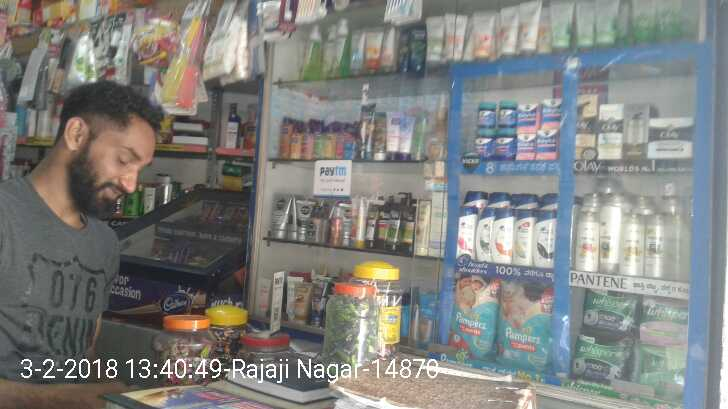beauty: (649, 117, 693, 159), (598, 202, 620, 276), (594, 103, 621, 163), (619, 101, 646, 161), (574, 212, 598, 271), (488, 206, 511, 266), (534, 206, 555, 271), (622, 212, 642, 278), (512, 206, 533, 266), (643, 214, 663, 277), (457, 207, 476, 258), (475, 203, 492, 260)
pharmacy: (499, 279, 550, 369), (453, 267, 497, 364), (566, 333, 633, 386), (642, 302, 698, 351), (584, 287, 640, 333), (536, 127, 559, 160), (471, 127, 496, 156), (539, 96, 561, 127), (494, 131, 516, 159), (494, 100, 516, 127), (518, 133, 536, 164), (513, 103, 539, 123), (476, 102, 493, 126)
